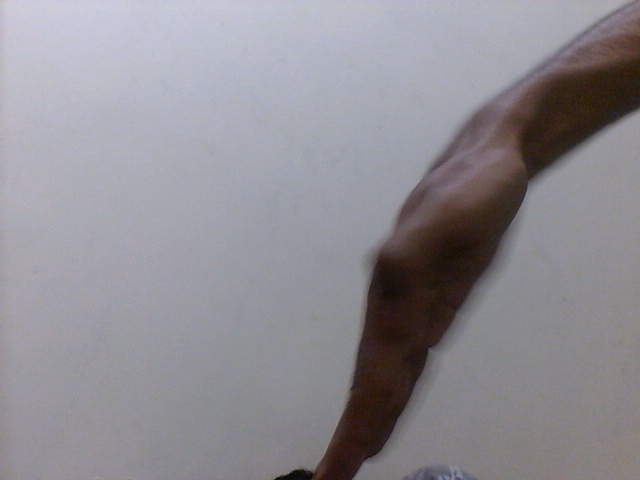hand: (298, 121, 534, 478)
